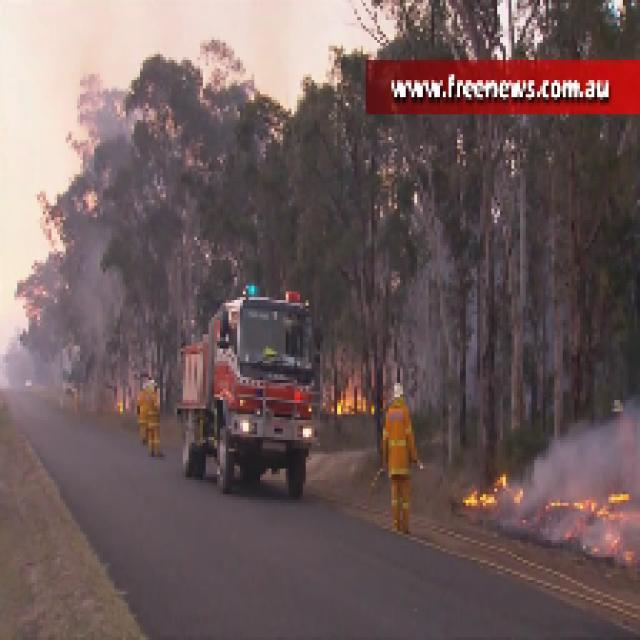Fire: (460, 466, 520, 518)
Smoke: (71, 12, 143, 374), (532, 394, 638, 494)
